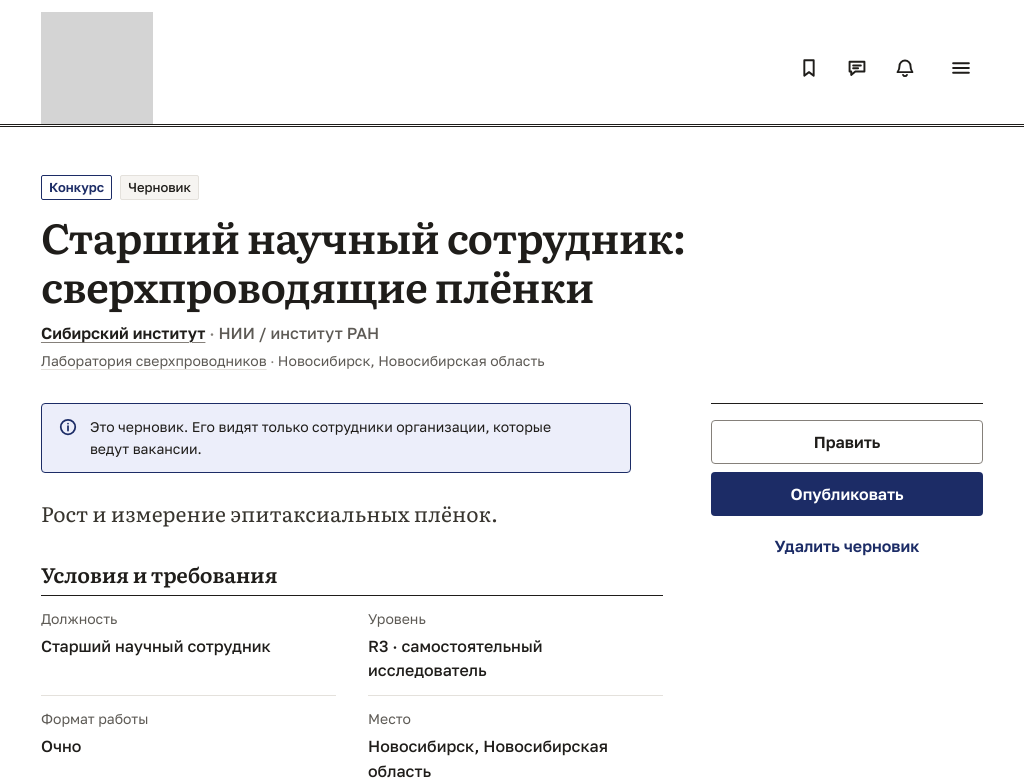
Scenario: managing a vacancy from its page › offers edit and the allowed status changes, and shows what changed
This screenshot has width=1024, height=780.
expect the button "Удалить черновик" is shown: met, box [711,524,983,568]
Click the button "Опубликовать" at (847, 494), box [711,472,983,516]
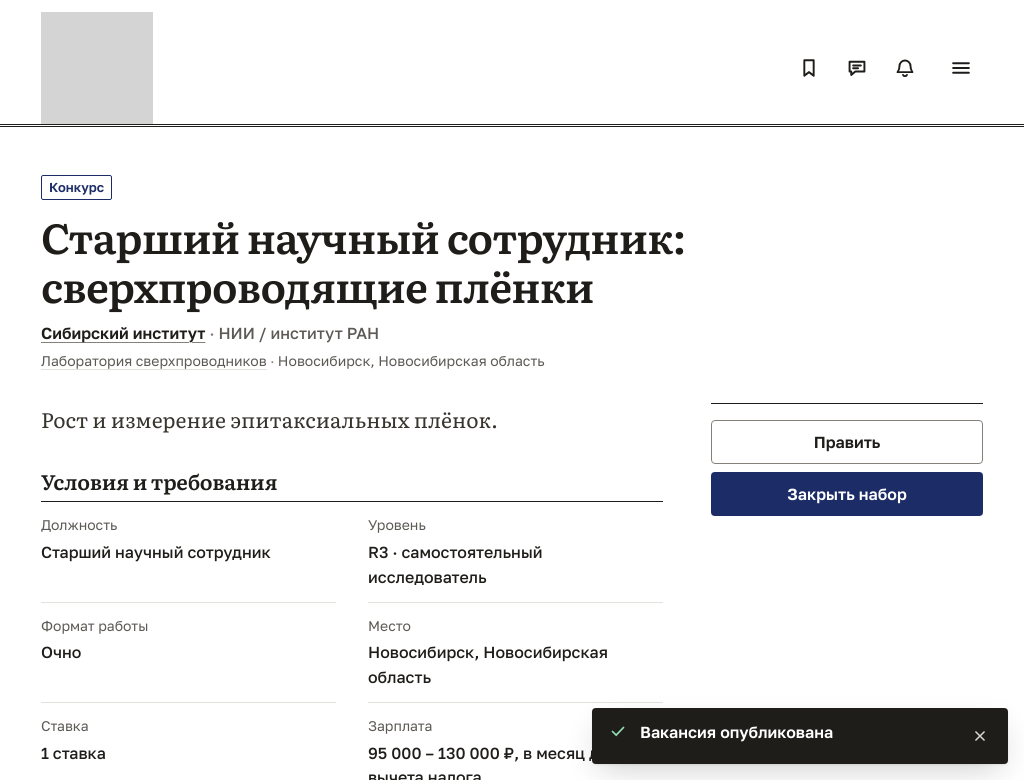
expect the text "Вакансия опубликована" is shown: met, box [640,722,833,742]
expect the button "Закрыть набор" is shown: met, box [711,472,983,516]
expect the button "Удалить черновик" is gone: met
